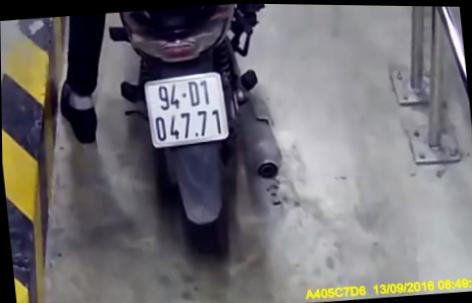LP: (142, 69, 231, 146)
